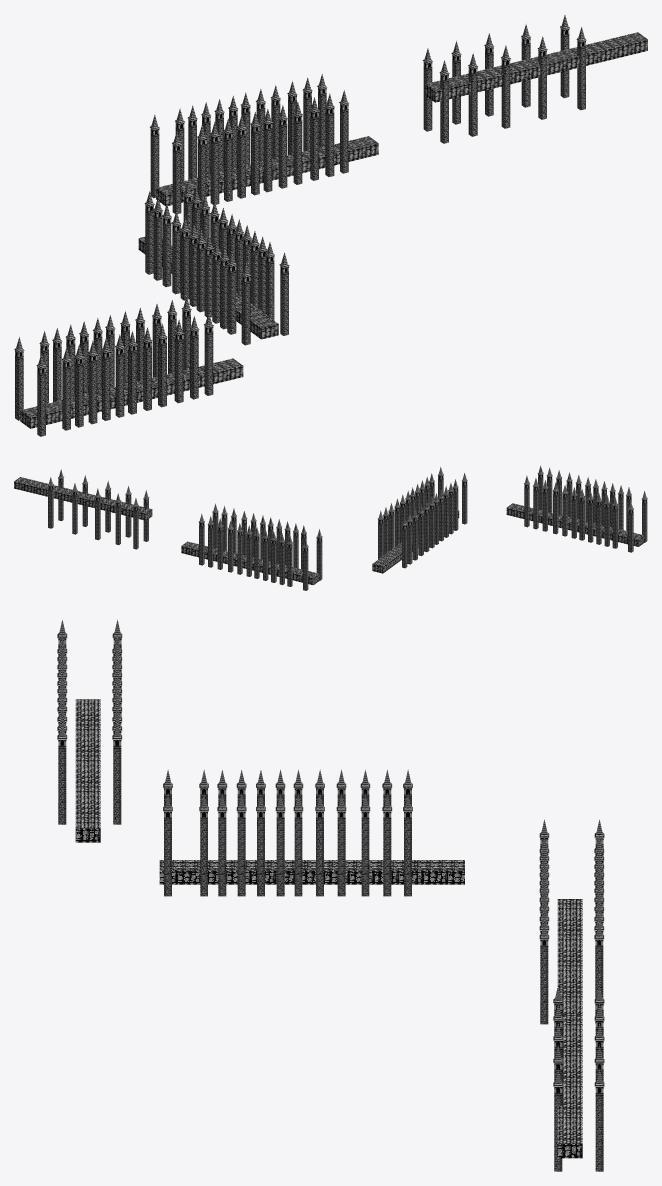
File: vis.obj
The picture shows the model from 3 angles, top to bottom: view 1: azimuth 30°, elevation 25°; view 2: azimuth 150°, elevation 25°; view 3: azimuth 270°, elevation 25°; orthographic projection. The views are drawn at different scales.
Visible parts, largest first — view 1: Cube.003, Cube, Cube.002, Cube.001, node.005, node.011, node.078, node.079, node.082, node.007, node.013, node.036 (+41 smaller); view 2: Cube.003, Cube, Cube.002, Cube.001, node.073, node.055, node.071, node.102, node.031, node.035, node.044, node.046 (+52 smaller); view 3: Cube.001, Cube, Cube.003, Cube.002, node.052, node.048, node.049, node.051, node.054, node.056, node.083, node.013 (+8 smaller).
Part boxes in pixels (x1=…): Cube.003: x1=425, y1=32, x2=647, y2=102; Cube: x1=20, y1=358, x2=243, y2=428; Cube.002: x1=156, y1=136, x2=378, y2=206; Cube.001: x1=138, y1=237, x2=278, y2=339; node.005: x1=87, y1=340, x2=97, y2=424; node.011: x1=174, y1=319, x2=184, y2=403; node.078: x1=262, y1=109, x2=272, y2=192; node.079: x1=277, y1=105, x2=287, y2=188; node.082: x1=324, y1=93, x2=334, y2=176; node.007: x1=114, y1=334, x2=124, y2=417; node.013: x1=204, y1=312, x2=213, y2=395; node.036: x1=226, y1=251, x2=236, y2=334; Cube.003: x1=14, y1=477, x2=152, y2=520; Cube: x1=506, y1=503, x2=644, y2=546; Cube.002: x1=181, y1=541, x2=319, y2=585; Cube.001: x1=372, y1=510, x2=459, y2=573; node.073: x1=316, y1=529, x2=322, y2=580; node.055: x1=388, y1=503, x2=394, y2=551; node.071: x1=302, y1=539, x2=308, y2=590; node.102: x1=262, y1=529, x2=268, y2=580; node.031: x1=579, y1=489, x2=585, y2=540; node.035: x1=612, y1=497, x2=618, y2=548; node.044: x1=412, y1=509, x2=418, y2=560; node.046: x1=401, y1=516, x2=407, y2=568; Cube.001: x1=159, y1=860, x2=464, y2=884; Cube: x1=75, y1=699, x2=100, y2=842; Cube.003: x1=557, y1=1015, x2=582, y2=1158; Cube.002: x1=557, y1=899, x2=582, y2=1014; node.052: x1=293, y1=792, x2=303, y2=896; node.048: x1=217, y1=793, x2=227, y2=896; node.049: x1=236, y1=793, x2=246, y2=896; node.051: x1=275, y1=793, x2=285, y2=896; node.054: x1=336, y1=793, x2=346, y2=896; node.056: x1=382, y1=793, x2=392, y2=896; node.083: x1=539, y1=921, x2=549, y2=1024; node.013: x1=57, y1=721, x2=67, y2=824.
Size of the model in its own units: 423 by 40.95 by 199.
349 materials, 349 textured.
